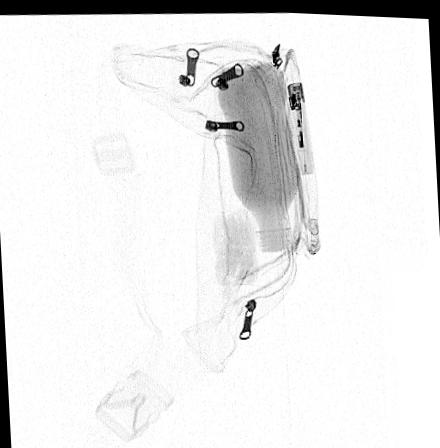Lighter: (285, 79, 314, 172)
